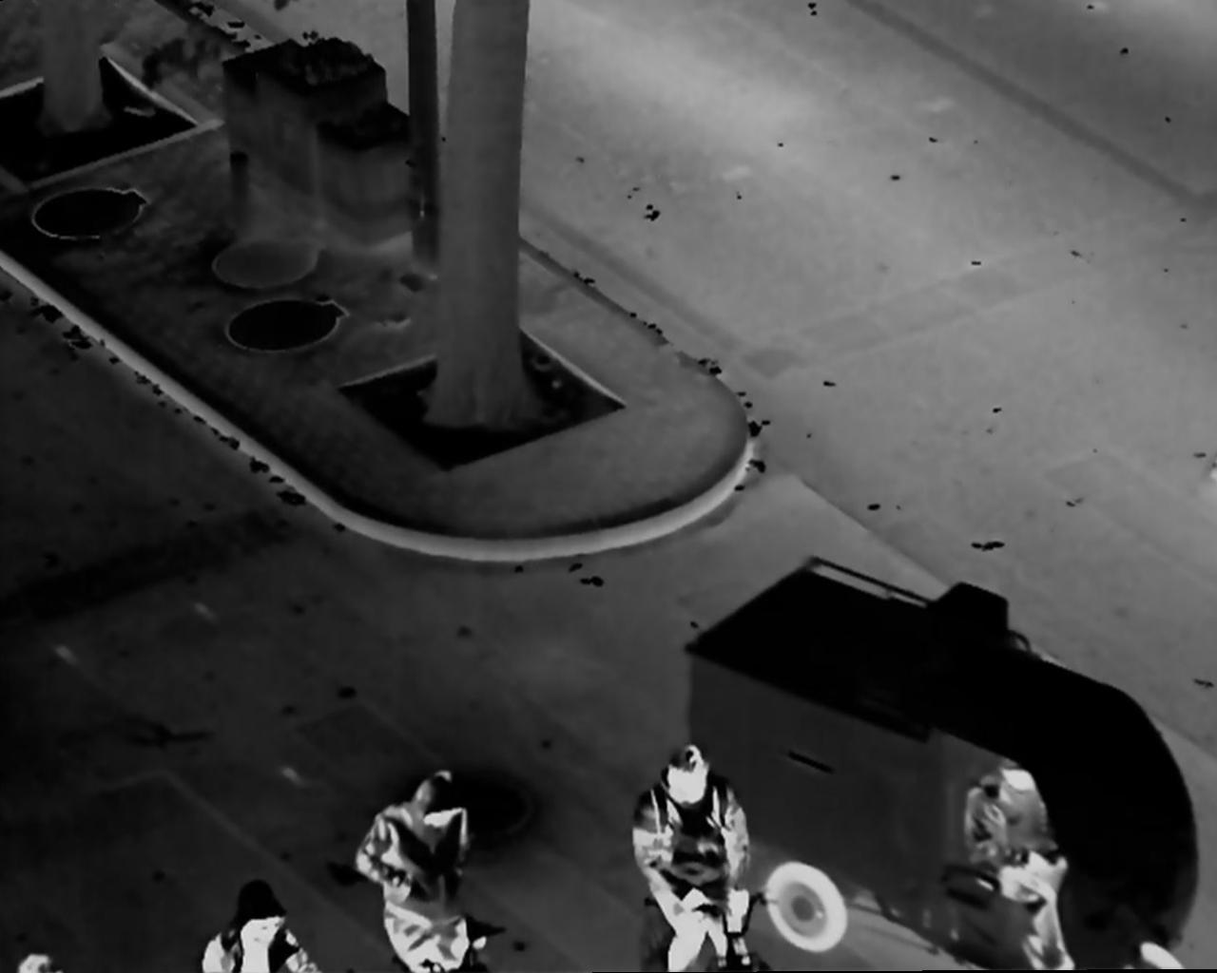person: (628, 745, 750, 973), (354, 772, 492, 973), (960, 748, 1072, 973), (196, 874, 318, 973)
